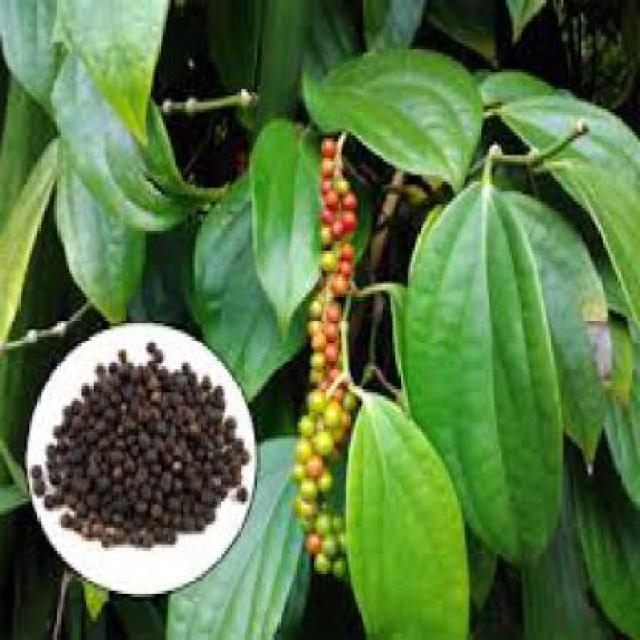RIPE: (300, 126, 362, 397)
